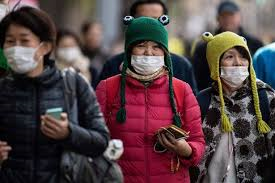mask_weared_incorrect: (121, 36, 169, 79), (217, 50, 251, 84)
with_mask: (2, 29, 48, 71)
